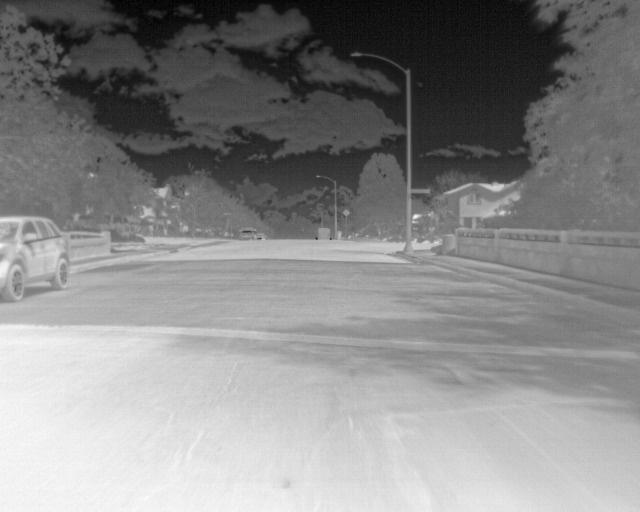car: (0, 214, 73, 301), (240, 228, 255, 242), (316, 226, 330, 240)
